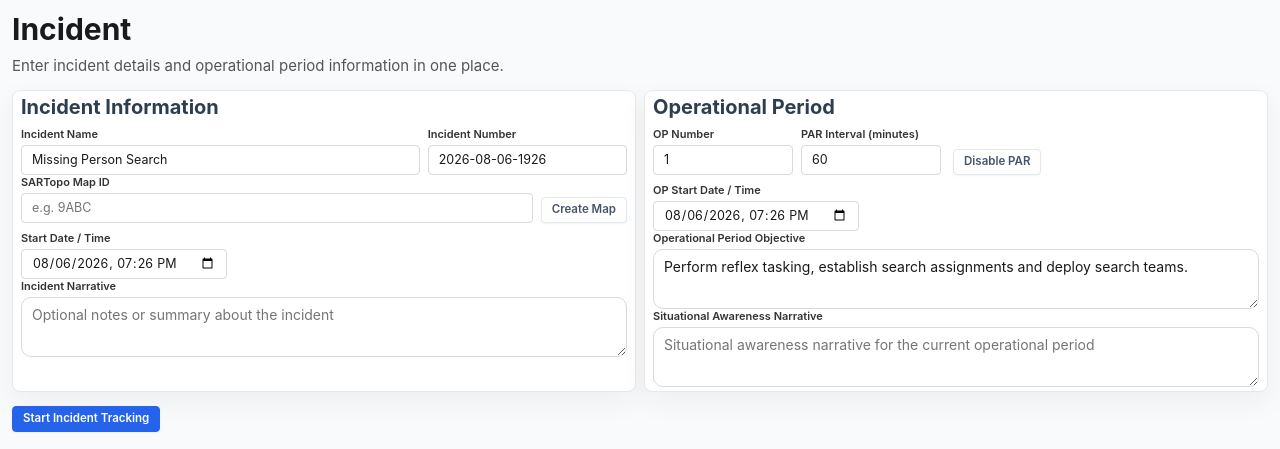
Test: IncidentEditPage Functional Tests › successfully creates a new SARTopo map using a signed request
The image size is (1280, 449).
Clear the field with placeholder "e.g. 9ABC" at (277, 208), box [21,192,533,222]
Click the button "Create Map" at (584, 210), box [541,196,627,222]
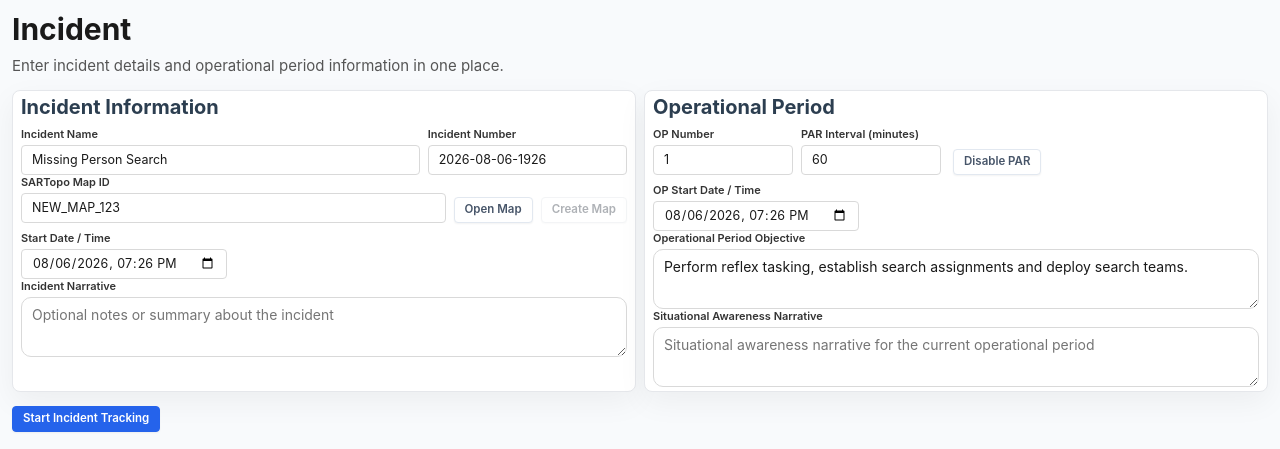
Result: the field showing "NEW_MAP_123" is shown at [21,192,446,222]
